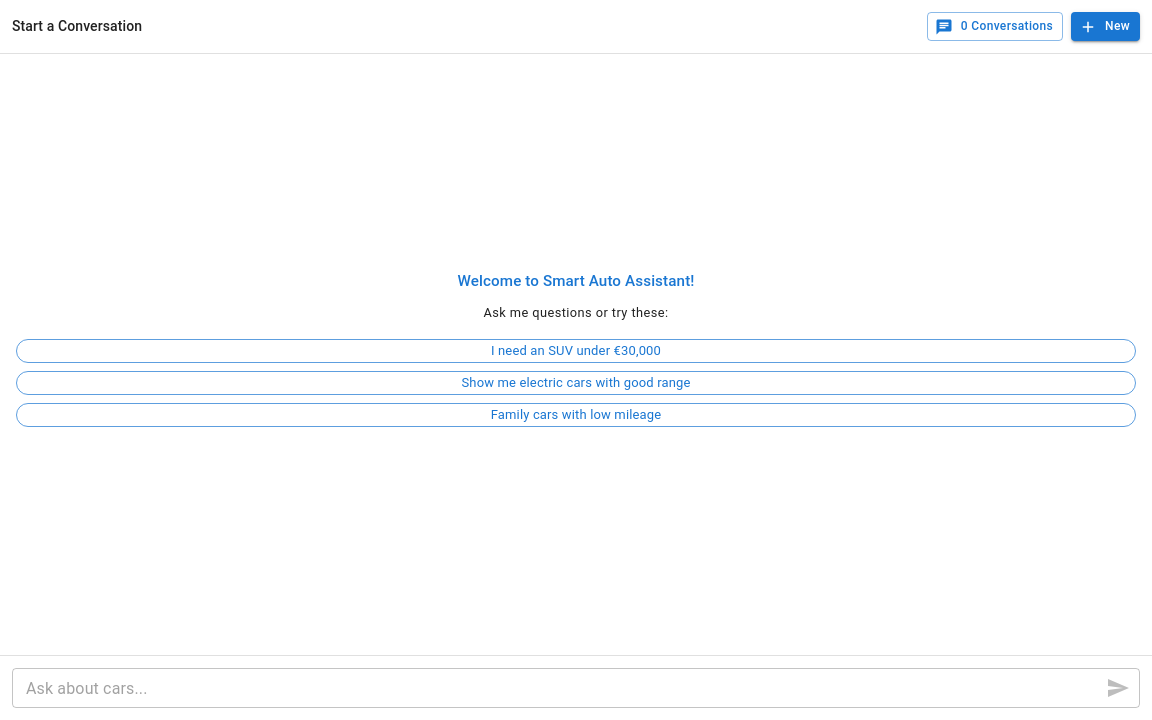
ChatInterface Component › displays error when new conversation fails
This screenshot has width=1152, height=720.
Expected: the heading "Start a Conversation" is shown, [12, 16, 142, 38]
Type "Trigger error" into the field with placeholder "Ask about cars...".
click(551, 688); type("Trigger error")  # box [12, 668, 1090, 708]
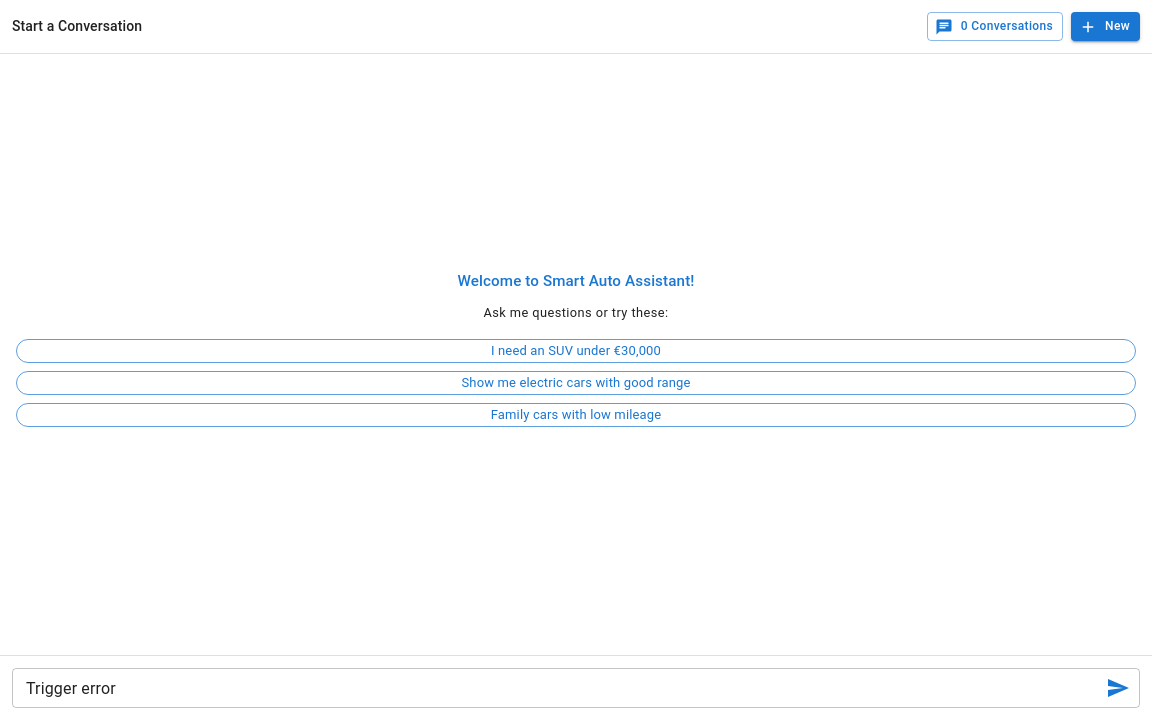
Click the button named "Send message".
click(1118, 688)  # box [1098, 668, 1138, 708]
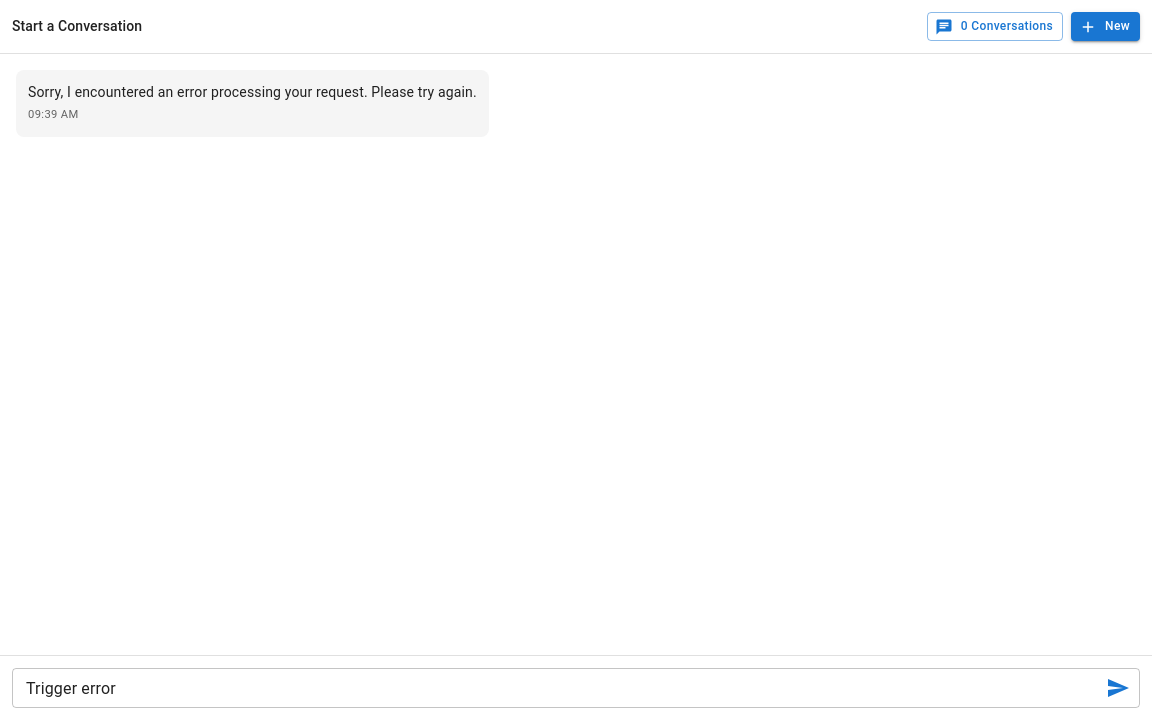
Now the text "Sorry, I encountered an error processing your request" is shown, box [28, 84, 477, 100]
